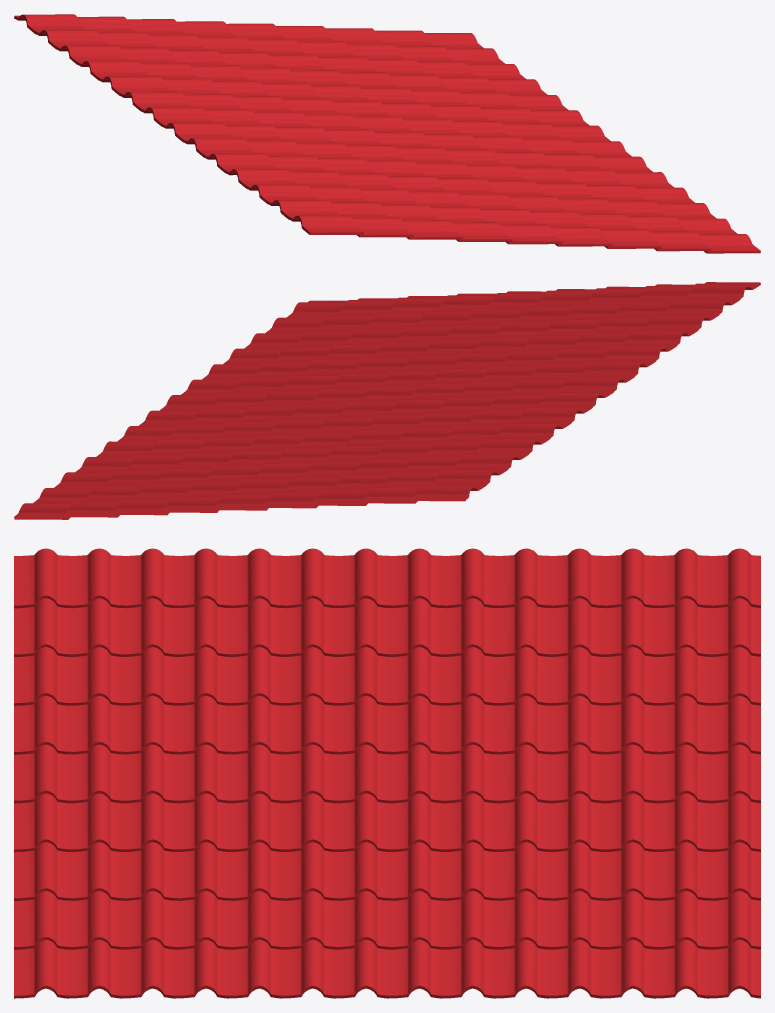
Rendered from runoprofil1.glb.
3 views of the same model, one above another, from view 1: azimuth 30°, elevation 25°; view 2: azimuth 150°, elevation 25°; view 3: azimuth 270°, elevation 25° (orthographic). The views are drawn at different scales.
Parts seen in each view (by area): view 1: runoprofil; view 2: runoprofil; view 3: runoprofil.
Boxes of the visible parts, left/top/right/bottom form: runoprofil: left=14, top=14, right=760, bottom=253; runoprofil: left=14, top=282, right=760, bottom=519; runoprofil: left=14, top=548, right=760, bottom=998.
Size of the model in its own units: 13.68 by 3.98 by 15.52.
